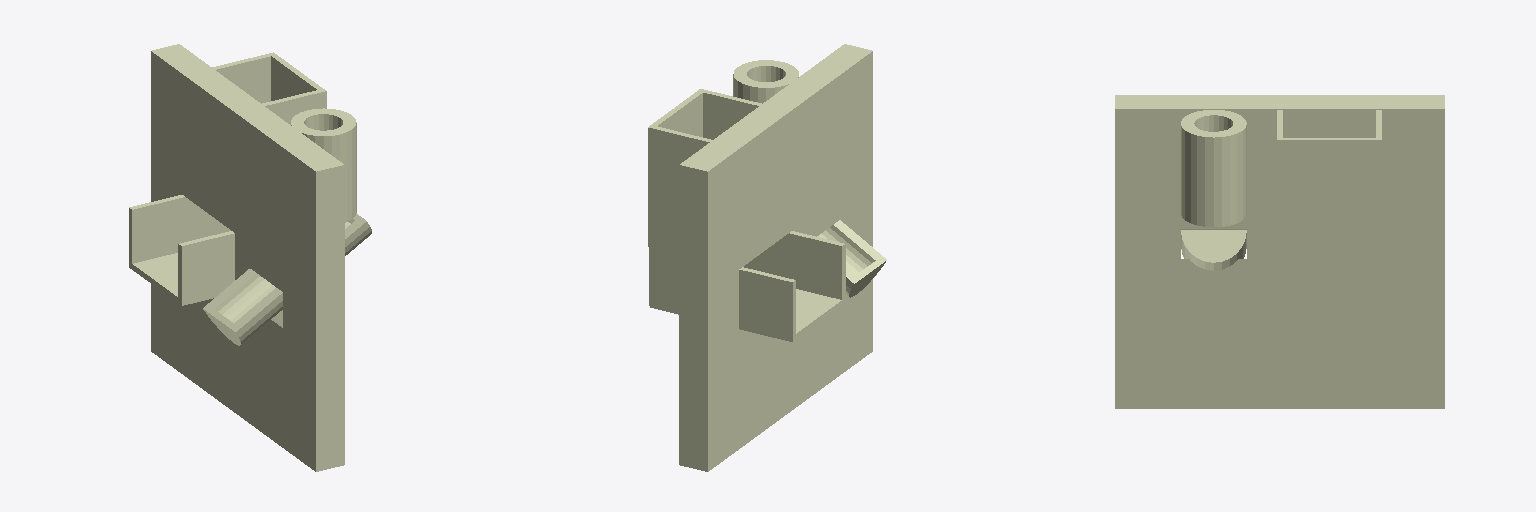
Rendered from 3DM_CashDispenser.obj.
3 renders of one model, left to right at view 1: azimuth 30°, elevation 25°; view 2: azimuth 150°, elevation 25°; view 3: azimuth 270°, elevation 25°, orthographic.
Visible parts, largest first — view 1: block, cylinderHollow_half, cylinderHollow, wedge, cylinder_half; view 2: block, cylinderHollow, cylinderHollow_half, wedge, cylinder_half; view 3: block, cylinderHollow, wedge, cylinder_half, cylinderHollow_half.
Part boxes in pixels (left/top/right/bottom): block: left=129, top=44, right=344, bottom=471; cylinderHollow_half: left=206, top=220, right=366, bottom=339; cylinderHollow: left=291, top=108, right=356, bottom=222; wedge: left=250, top=245, right=282, bottom=327; cylinder_half: left=203, top=213, right=371, bottom=345; block: left=648, top=44, right=872, bottom=471; cylinderHollow: left=733, top=60, right=798, bottom=103; cylinderHollow_half: left=817, top=220, right=884, bottom=284; wedge: left=649, top=196, right=839, bottom=305; cylinder_half: left=846, top=258, right=886, bottom=297; block: left=1115, top=95, right=1444, bottom=408; cylinderHollow: left=1181, top=110, right=1246, bottom=226; wedge: left=1181, top=229, right=1378, bottom=319; cylinder_half: left=1181, top=230, right=1246, bottom=262; cylinderHollow_half: left=1181, top=234, right=1246, bottom=270.
Bounding box in the file's own units: 0.53 × 1 × 1.